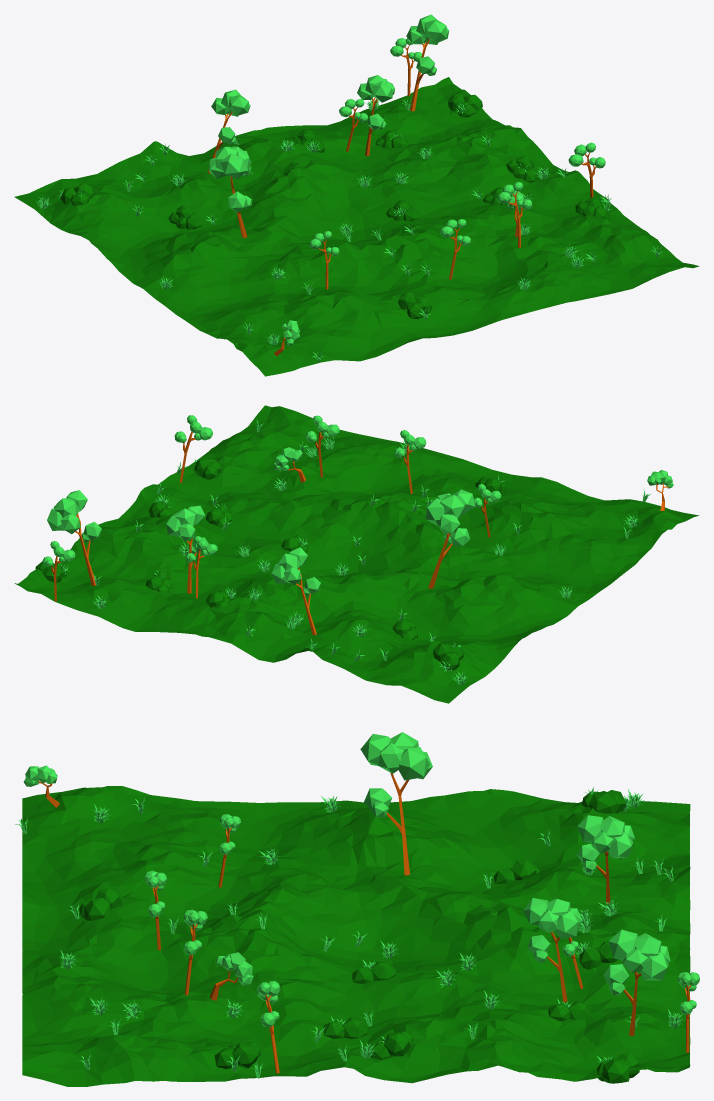
File: Fields.fbx
The picture shows the model from 3 angles, top to bottom: view 1: azimuth 30°, elevation 25°; view 2: azimuth 150°, elevation 25°; view 3: azimuth 270°, elevation 25°; orthographic projection. The views are drawn at different scales.
Parts seen in each view (by area): view 1: Plane, Trees, Bushes, Grass2, Grass1; view 2: Plane, Trees, Bushes, Grass2, Grass1; view 3: Plane, Trees, Bushes, Grass2, Grass1.
Part boxes in pixels (x1,y1,x2,y2): Plane: [14, 77, 699, 376]; Trees: [207, 14, 605, 356]; Bushes: [60, 94, 609, 319]; Grass2: [36, 99, 585, 344]; Grass1: [73, 98, 662, 362]; Plane: [14, 405, 698, 703]; Trees: [42, 415, 673, 635]; Bushes: [35, 458, 506, 670]; Grass2: [58, 437, 638, 684]; Grass1: [93, 419, 650, 661]; Plane: [22, 786, 690, 1086]; Trees: [23, 732, 699, 1073]; Bushes: [79, 790, 639, 1083]; Grass2: [60, 789, 685, 1062]; Grass1: [15, 787, 673, 1078].
Size of the model in its own units: 202 by 49.93 by 205.
